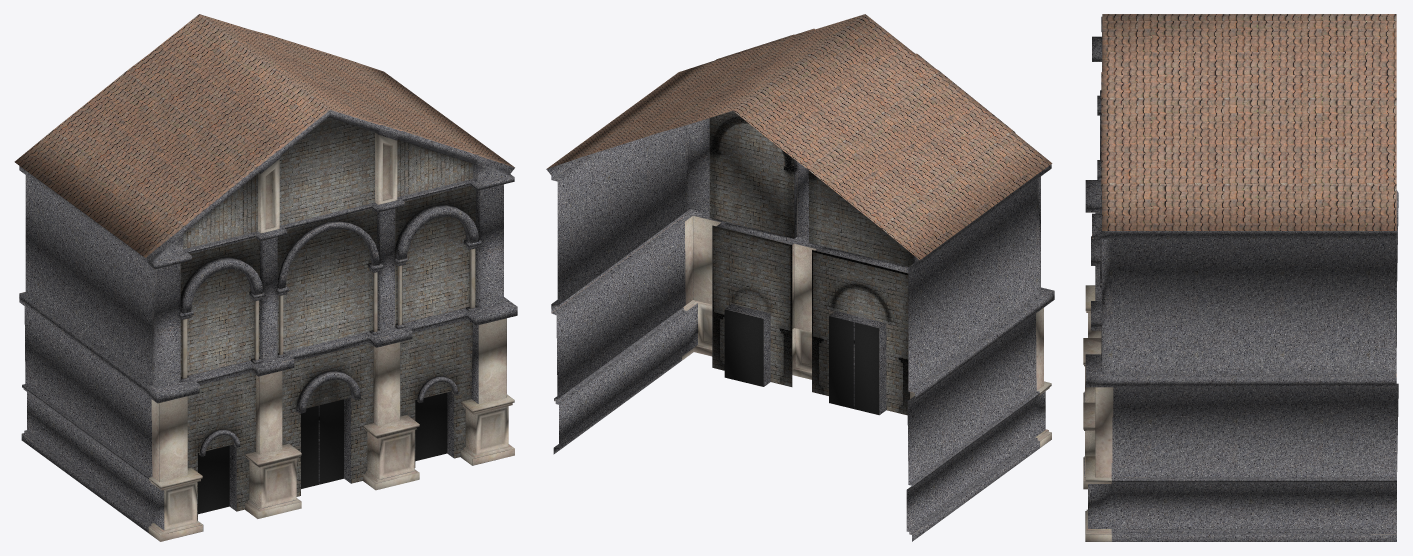
File: fachada2.fbx
3 renders of one model, left to right at view 1: azimuth 30°, elevation 25°; view 2: azimuth 150°, elevation 25°; view 3: azimuth 270°, elevation 25°, orthographic. The views are drawn at different scales.
Parts seen in each view (by area): view 1: Plane; view 2: Plane; view 3: Plane.
Boxes of the visible parts, x1,y1,x2,y2 form: Plane: (14, 14, 517, 541); Plane: (546, 14, 1054, 541); Plane: (1083, 14, 1398, 541).
Size of the model in its own units: 917 by 908 by 603.
Materials: 1 (1 with a texture image).
